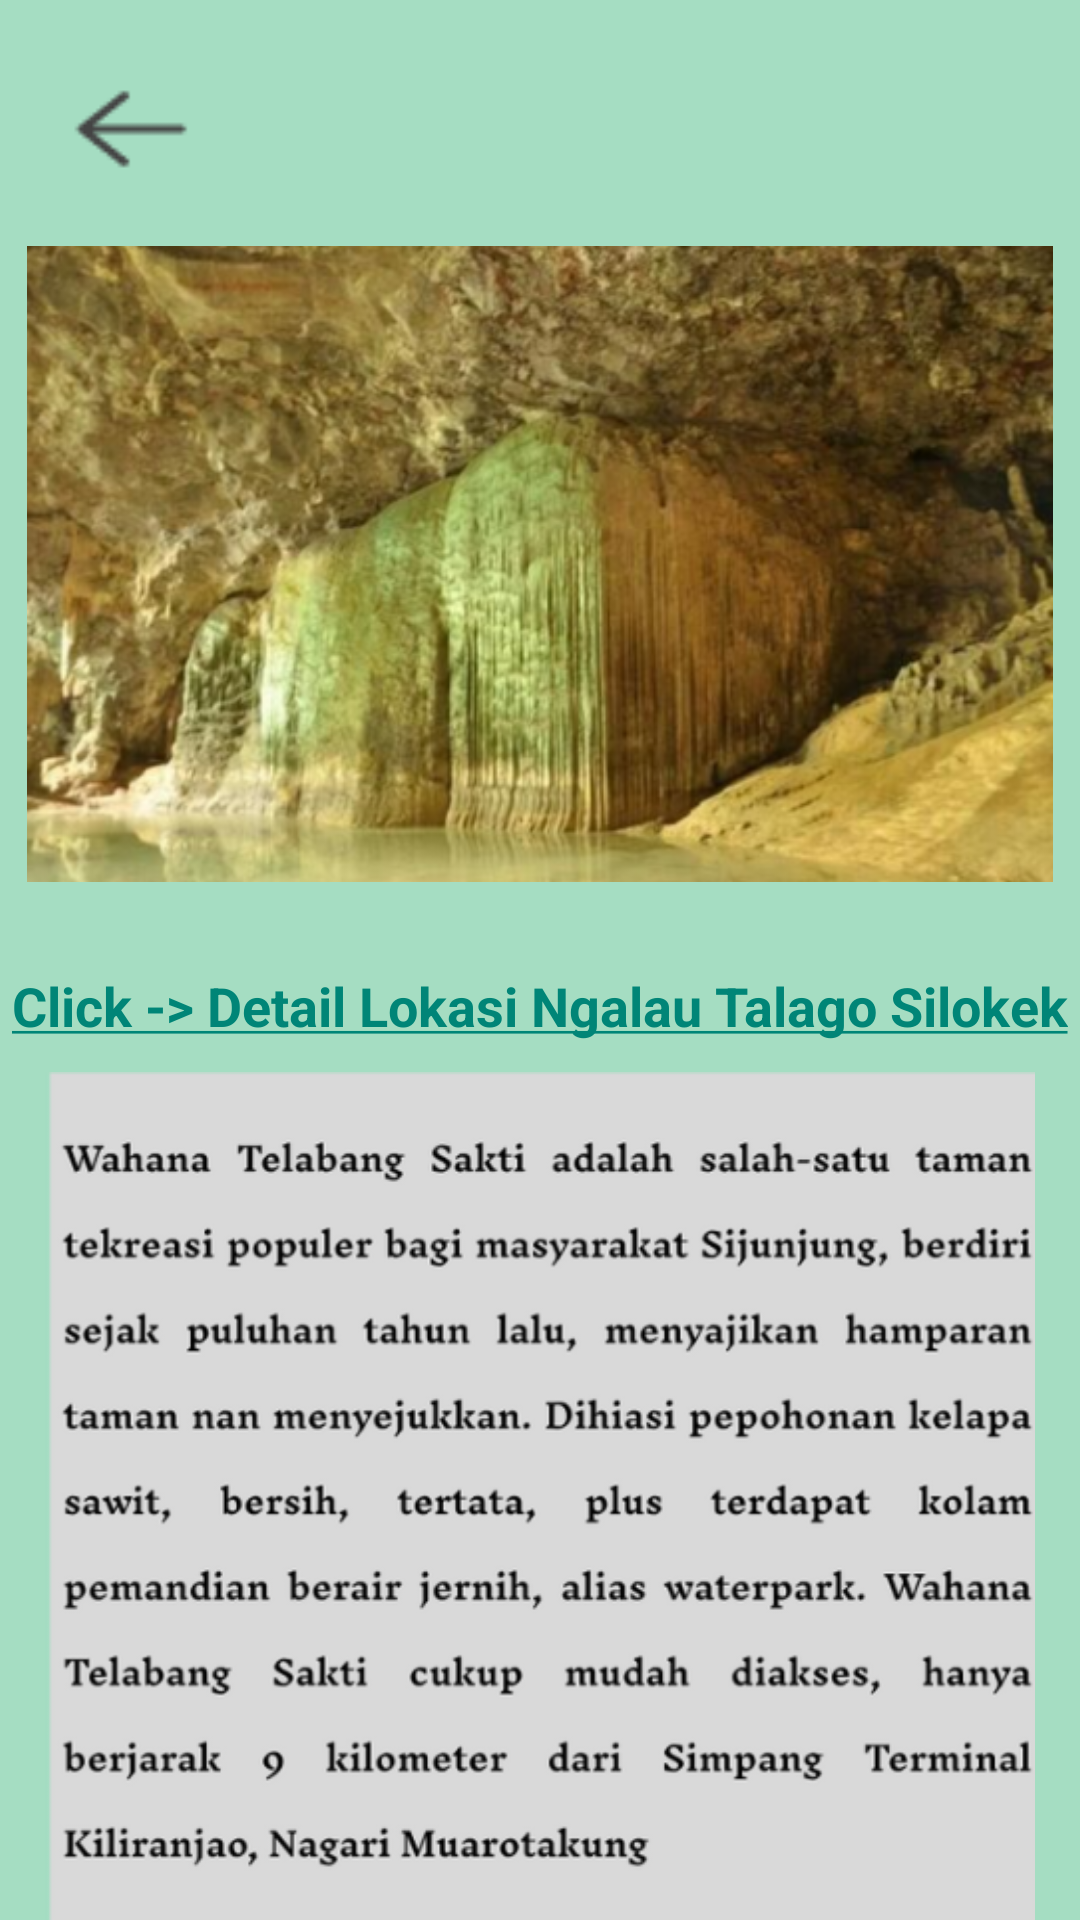

Icons on this 1080px×1920px Android screen, each with the point to tap as (x=x, y=y):
back: (x=131, y=129)
